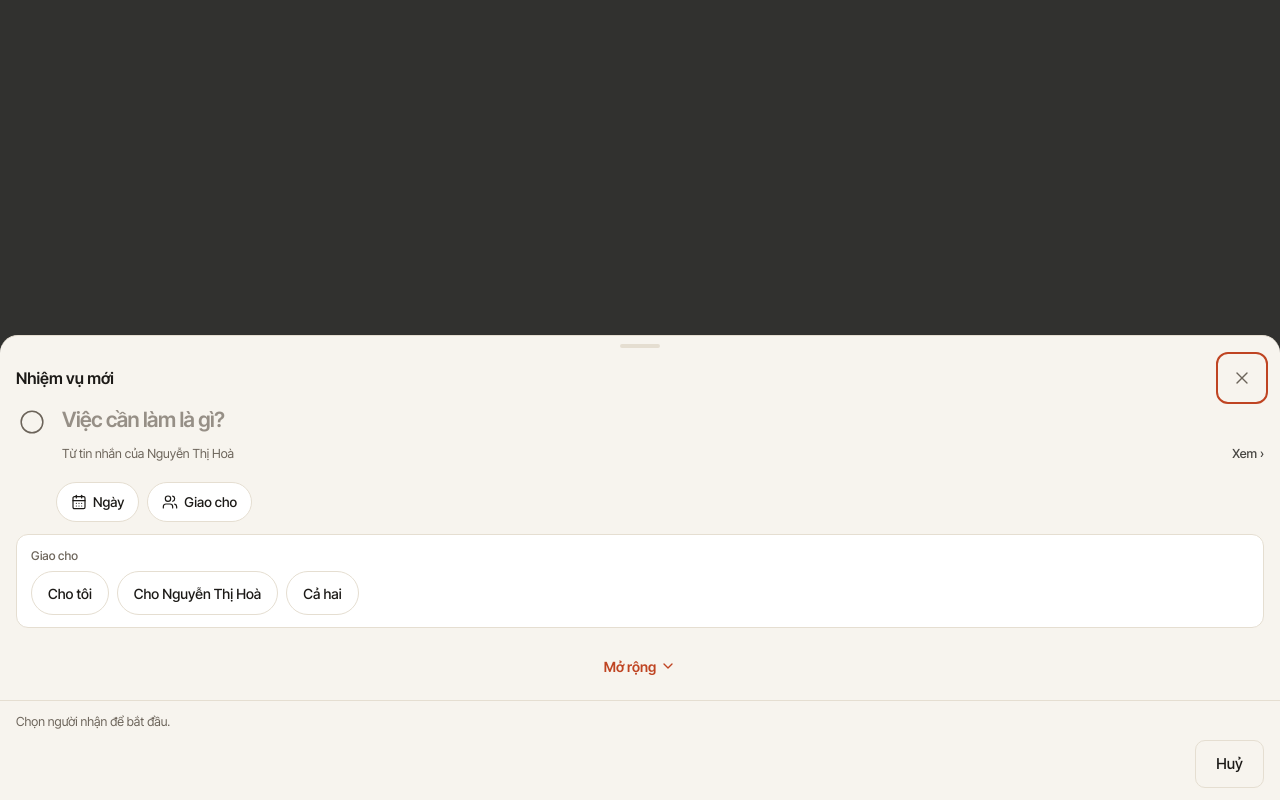
Test case: a 1-1 never offers you to yourself
expect the radio button labelled "Cho tôi" is shown: met, box [31,571,109,615]
expect the radio button labelled "Cả hai" is shown: met, box [286,571,359,615]
Click the radio button labelled "Cho Nguyễn Thị Hoà": (198, 593) [117,571,278,615]
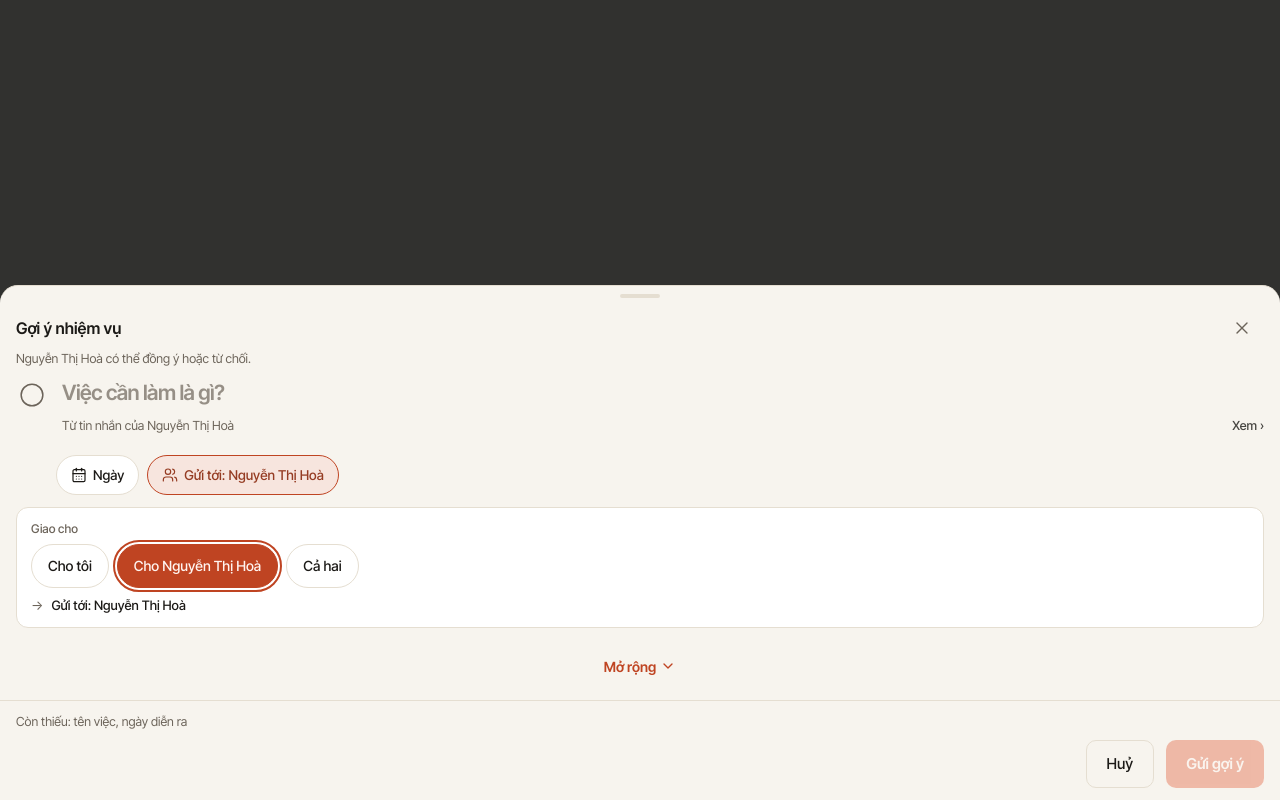
expect the button "Gửi gợi ý" is shown: met, box [1166,740,1264,788]
